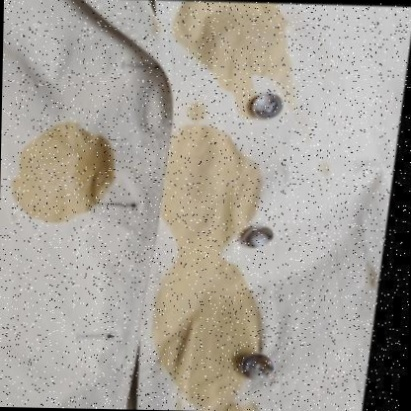coffee: (160, 133, 239, 248), (178, 2, 292, 77), (164, 263, 256, 351), (15, 133, 109, 217)
